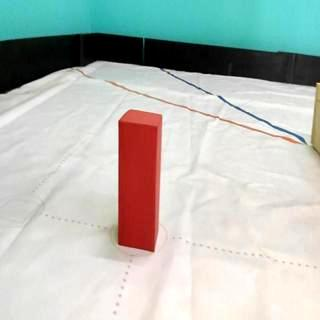redbox: (117, 106, 163, 252)
